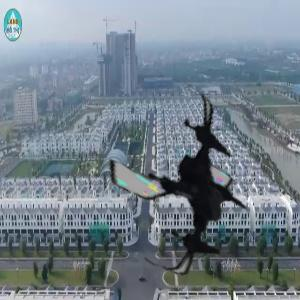drone: (100, 99, 274, 273)
